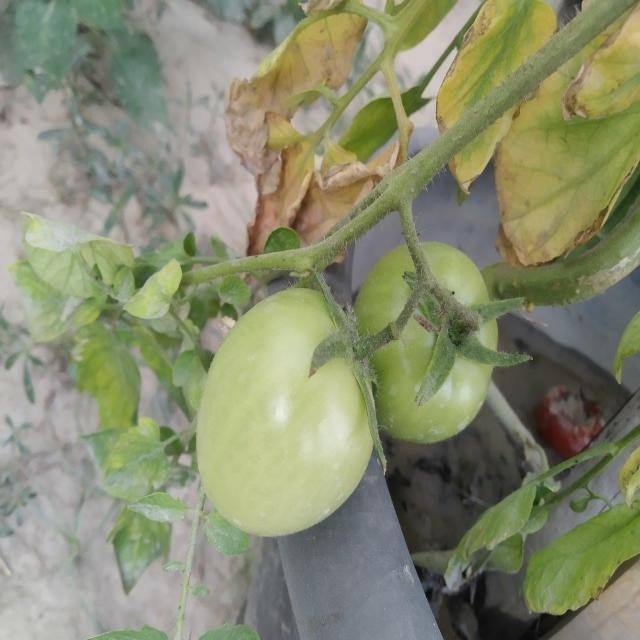Unripe: (196, 284, 377, 538), (358, 240, 498, 446)
